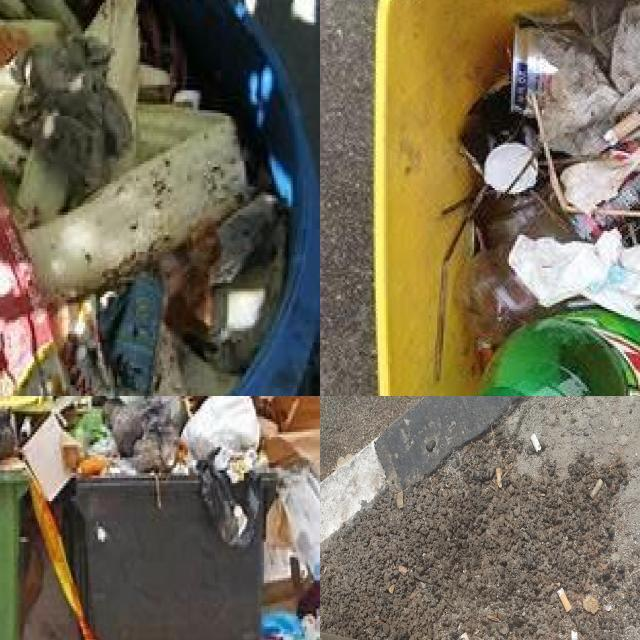Background: (354, 396, 640, 640)
Cig_bud: (557, 588, 572, 612), (590, 479, 604, 499), (530, 433, 542, 453), (571, 630, 578, 640), (460, 633, 469, 640)
Garbage: (461, 0, 640, 396), (182, 396, 260, 460)
Plastic_bottle: (476, 306, 640, 396)
can: (511, 22, 570, 113)
